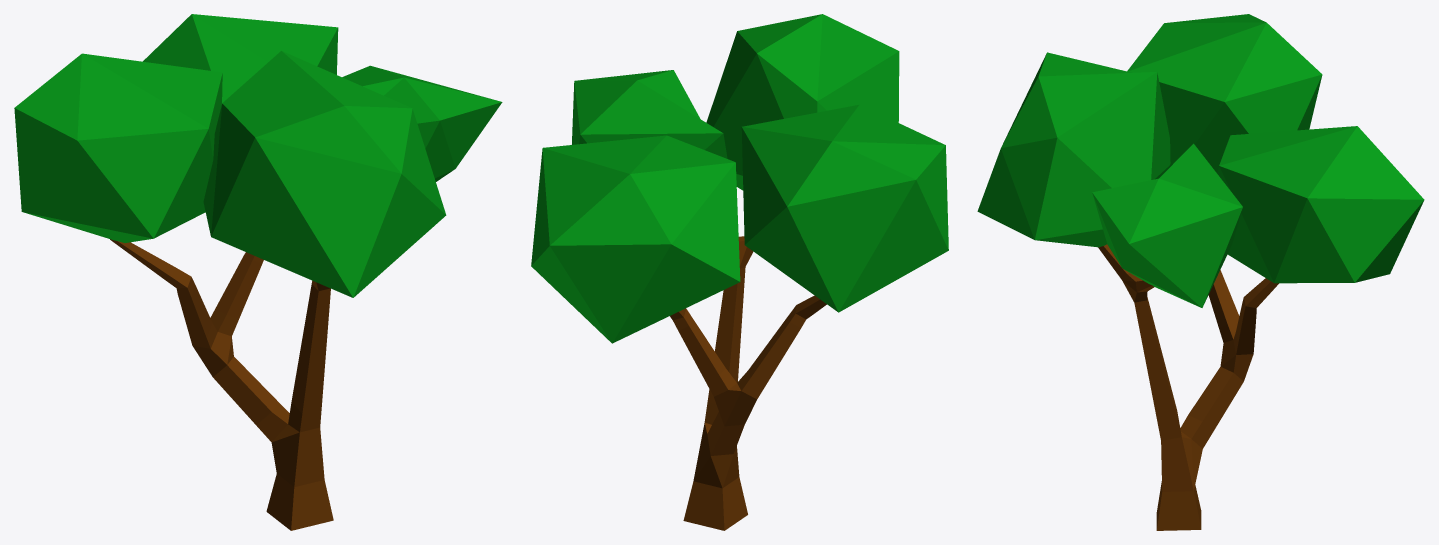
Rendered from Tree_2.fbx.
3 views of the same model, side by side, from view 1: azimuth 30°, elevation 25°; view 2: azimuth 150°, elevation 25°; view 3: azimuth 270°, elevation 25° (orthographic). The views are drawn at different scales.
Visible parts, largest first — view 1: Icosphere.003, Icosphere.002, Cube, Icosphere.001, Icosphere; view 2: Icosphere.001, Icosphere.002, Icosphere.003, Cube, Icosphere; view 3: Icosphere.001, Icosphere.003, Icosphere.002, Icosphere, Cube.
Part boxes in pixels (x1=…): Icosphere.003: x1=203, y1=51, x2=446, y2=297; Icosphere.002: x1=14, y1=53, x2=222, y2=242; Cube: x1=110, y1=239, x2=333, y2=530; Icosphere.001: x1=143, y1=14, x2=338, y2=103; Icosphere: x1=342, y1=65, x2=502, y2=181; Icosphere.001: x1=531, y1=135, x2=740, y2=343; Icosphere.002: x1=741, y1=104, x2=948, y2=312; Icosphere.003: x1=706, y1=14, x2=899, y2=190; Cube: x1=670, y1=236, x2=826, y2=530; Icosphere: x1=572, y1=70, x2=727, y2=158; Icosphere.001: x1=1217, y1=126, x2=1424, y2=283; Icosphere.003: x1=977, y1=52, x2=1170, y2=247; Icosphere.002: x1=1127, y1=14, x2=1322, y2=173; Icosphere: x1=1092, y1=143, x2=1242, y2=307; Cube: x1=1098, y1=244, x2=1278, y2=530.
Bounding box in the file's own units: 683 × 723 × 672.
